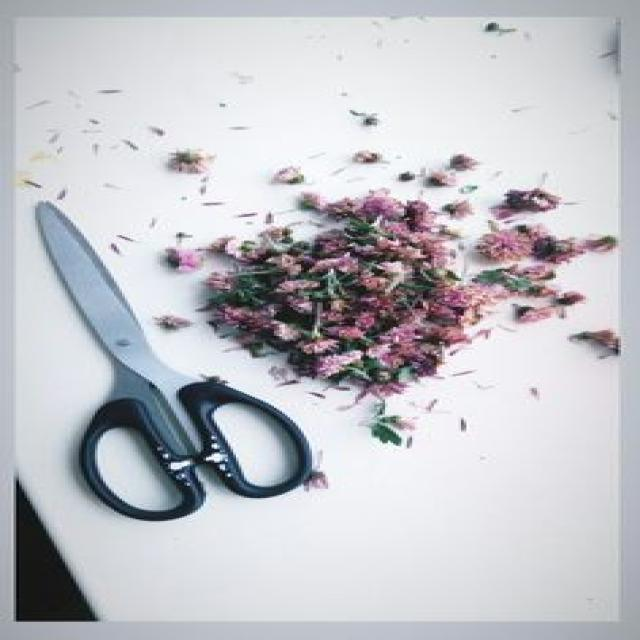tesoura: (16, 186, 330, 540)
